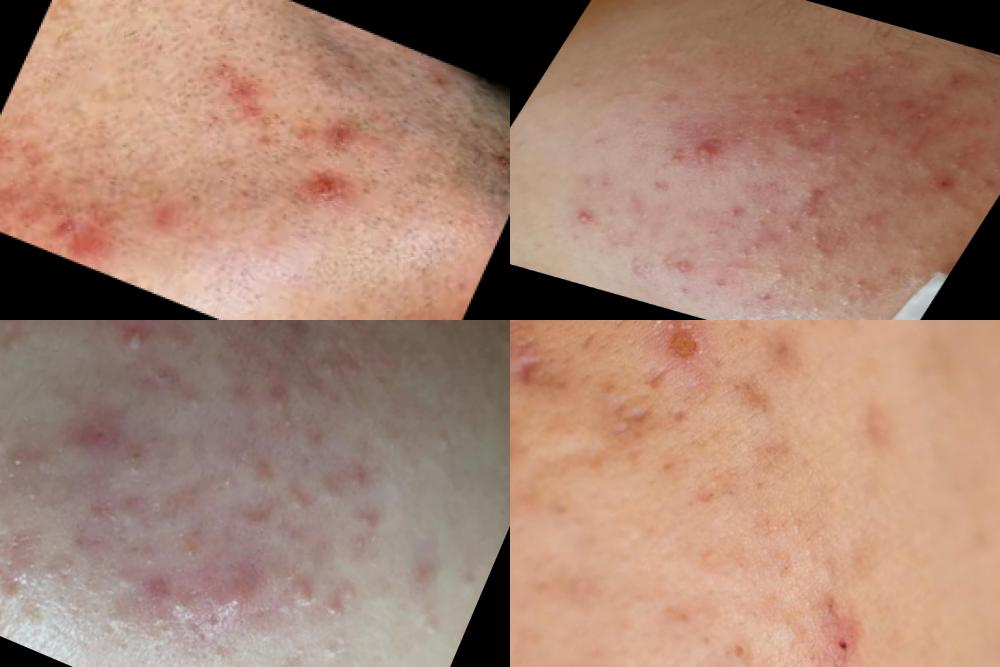blackhead: (141, 350, 184, 397)
papular: (196, 539, 279, 637), (332, 507, 398, 577), (287, 158, 355, 218), (66, 403, 127, 466), (675, 130, 744, 172), (272, 477, 324, 523), (399, 553, 448, 600), (334, 461, 383, 506), (779, 178, 837, 209)
purulent: (97, 321, 151, 368), (560, 196, 609, 231)
sebo-crystan-conglo: (277, 572, 320, 623)
whitehead: (801, 268, 890, 321), (313, 572, 365, 634), (35, 544, 87, 596), (409, 597, 455, 648), (205, 459, 254, 505), (192, 639, 270, 667), (860, 37, 915, 76), (317, 623, 363, 667), (109, 557, 151, 603), (753, 256, 805, 292), (1, 321, 46, 361), (621, 42, 669, 73), (946, 148, 986, 182), (799, 225, 840, 254), (661, 257, 704, 283), (748, 201, 784, 230), (622, 258, 659, 284), (840, 106, 878, 130), (804, 147, 848, 167), (853, 82, 889, 106), (886, 176, 921, 200), (864, 94, 896, 120), (796, 299, 832, 321), (906, 238, 938, 261), (738, 240, 769, 263), (776, 138, 811, 158), (655, 92, 686, 114), (778, 218, 807, 239), (911, 105, 941, 124), (853, 143, 882, 162), (772, 73, 803, 90), (701, 227, 725, 245), (746, 77, 768, 96), (790, 121, 815, 137), (886, 219, 906, 238), (755, 93, 776, 108)
